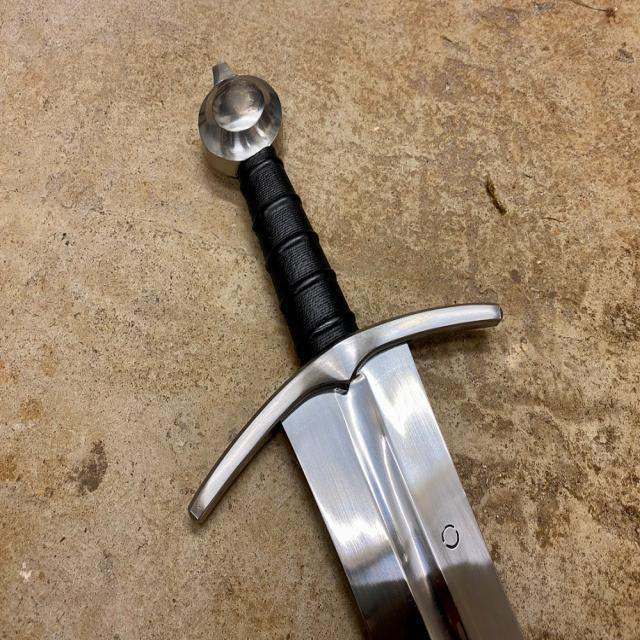sword: (196, 60, 529, 640)
